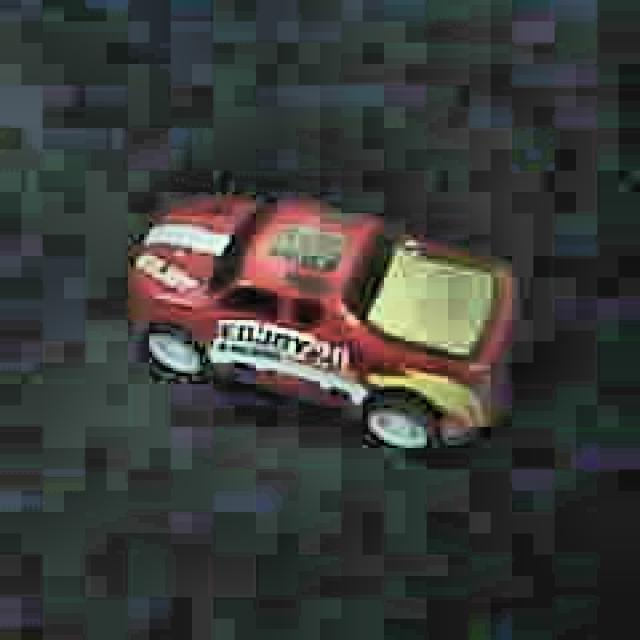car: (119, 181, 524, 461)
